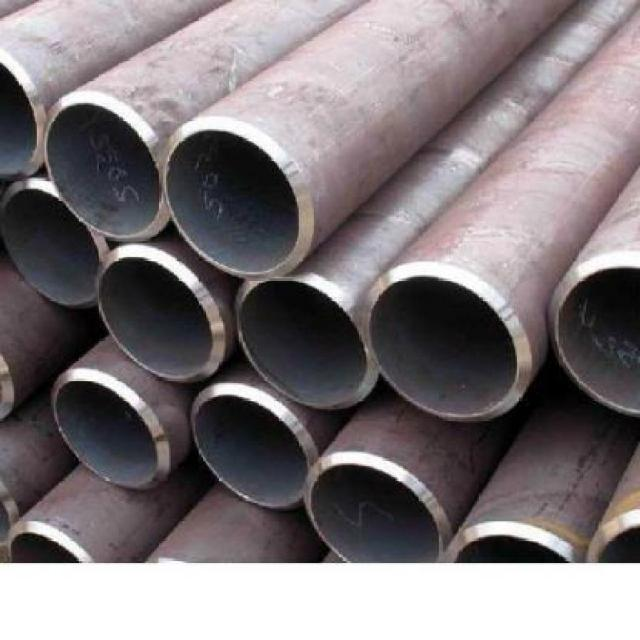pipe: (365, 269, 527, 423), (164, 125, 308, 279), (234, 274, 376, 410), (42, 100, 168, 243), (94, 249, 225, 385), (191, 389, 319, 509), (303, 459, 448, 564), (49, 371, 169, 491), (551, 259, 640, 416), (0, 179, 106, 308)
